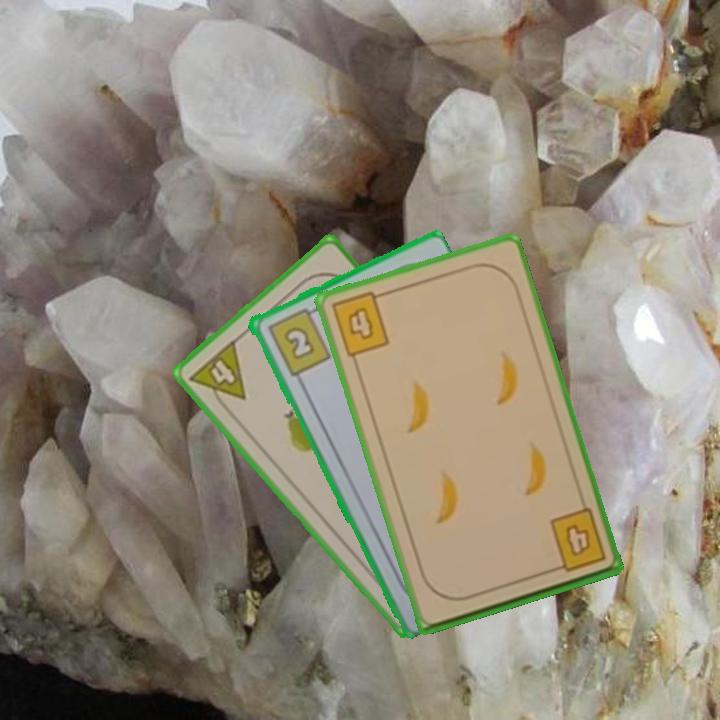2b: (263, 303, 333, 379)
4b: (327, 288, 392, 360), (546, 505, 609, 575)
4p: (185, 336, 249, 416)
